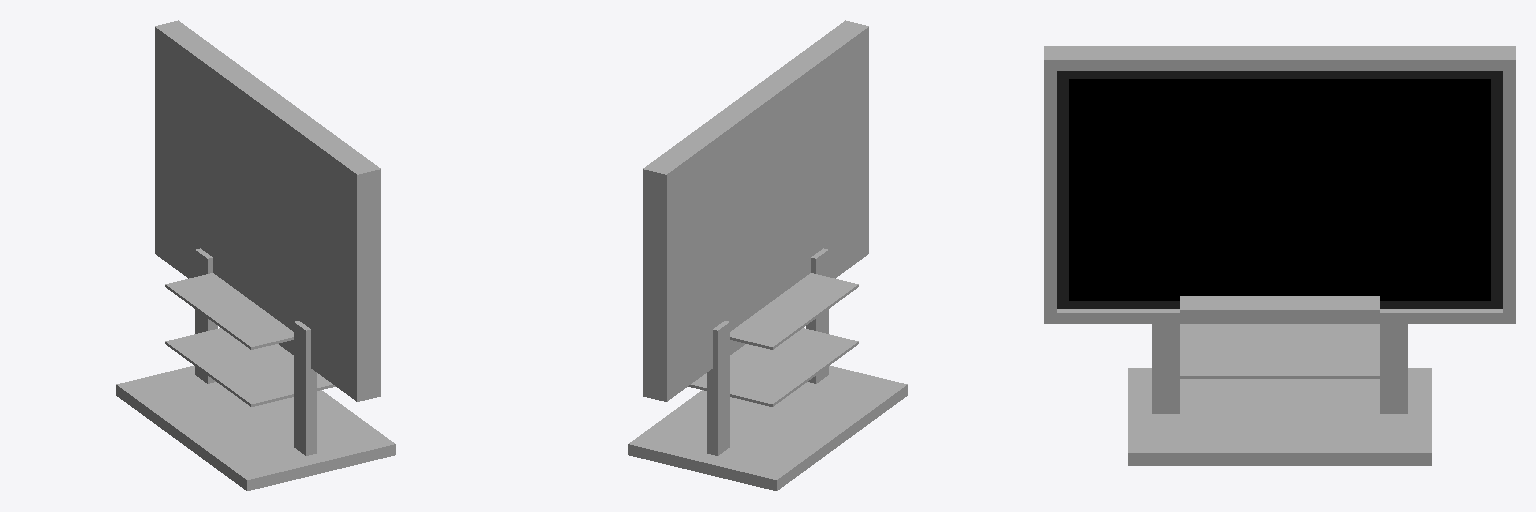
The robot description file, URDF, robot "room610-tv3":
<?xml version="1.0"?>
<robot name="room610-tv3"
       xmlns:xi="http://www.w3.org/2001/XInclude"
       xmlns:gazebo="http://playerstage.sourceforge.net/gazebo/xmlschema/#gz"
       xmlns:model="http://playerstage.sourceforge.net/gazebo/xmlschema/#model"
       xmlns:sensor="http://playerstage.sourceforge.net/gazebo/xmlschema/#sensor"
       xmlns:body="http://playerstage.sourceforge.net/gazebo/xmlschema/#body"
       xmlns:geom="http://playerstage.sourceforge.net/gazebo/xmlschema/#geom"
       xmlns:joint="http://playerstage.sourceforge.net/gazebo/xmlschema/#joint"
       xmlns:interface="http://playerstage.sourceforge.net/gazebo/xmlschema/#interface"
       xmlns:rendering="http://playerstage.sourceforge.net/gazebo/xmlschema/#rendering"
       xmlns:renderable="http://playerstage.sourceforge.net/gazebo/xmlschema/#renderable"
       xmlns:controller="http://playerstage.sourceforge.net/gazebo/xmlschema/#controller"
       xmlns:physics="http://playerstage.sourceforge.net/gazebo/xmlschema/#physics">
  <gazebo>
    <static>false</static>
  </gazebo>
  <link name="nil_link">
    <visual>
      <origin xyz="0 0 0" rpy="0 -0 0"/>
      <geometry>
        <mesh filename="model://room610-tv3/meshes/nil_link_mesh.dae" scale="1 1 1" />
      </geometry>
    </visual>
    <collision>
      <origin xyz="0 0 0" rpy="0 -0 0"/>
      <geometry>
        <mesh filename="model://room610-tv3/meshes/nil_link_mesh.dae" scale="1 1 1" />
      </geometry>
    </collision>
    <inertial>
      <mass value="0.001" />
      <origin xyz="0 0 0" rpy="0 -0 0"/>
      <inertia ixx="1e-09" ixy="0" ixz="0" iyy="1e-09" iyz="0" izz="1e-09"/>
    </inertial>
  </link>
  <gazebo reference="nil_link">
    <mu1>0.9</mu1>
    <mu2>0.9</mu2>
  </gazebo>
</robot>

--- Facts derived from the render (not from the file) ---
Views: 3 orthographic renders of the robot side by side, from view 1: azimuth 30°, elevation 25°; view 2: azimuth 150°, elevation 25°; view 3: azimuth 270°, elevation 25°.
Robot: room610-tv3 — 1 links, 0 joints (none); root link nil_link; default pose: every joint at zero.
Visible links, largest first — view 1: nil_link; view 2: nil_link; view 3: nil_link.
Boxes of the visible links, x1,y1,x2,y2 form: nil_link: (116, 20, 395, 490); nil_link: (628, 20, 907, 490); nil_link: (1044, 46, 1515, 465).
Bounding box of the posed robot: 0.558 × 1.32 × 1.17 m (x, y, z).
Meshes: 1 distinct files referenced, 1 mesh visuals loaded (1 Collada DAE).
